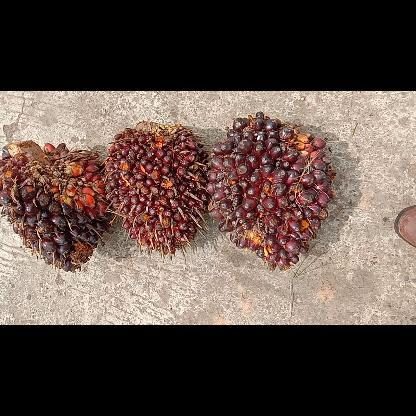Kurang masak: (212, 111, 334, 271), (104, 122, 208, 254)
TBS masak: (0, 141, 103, 272)
